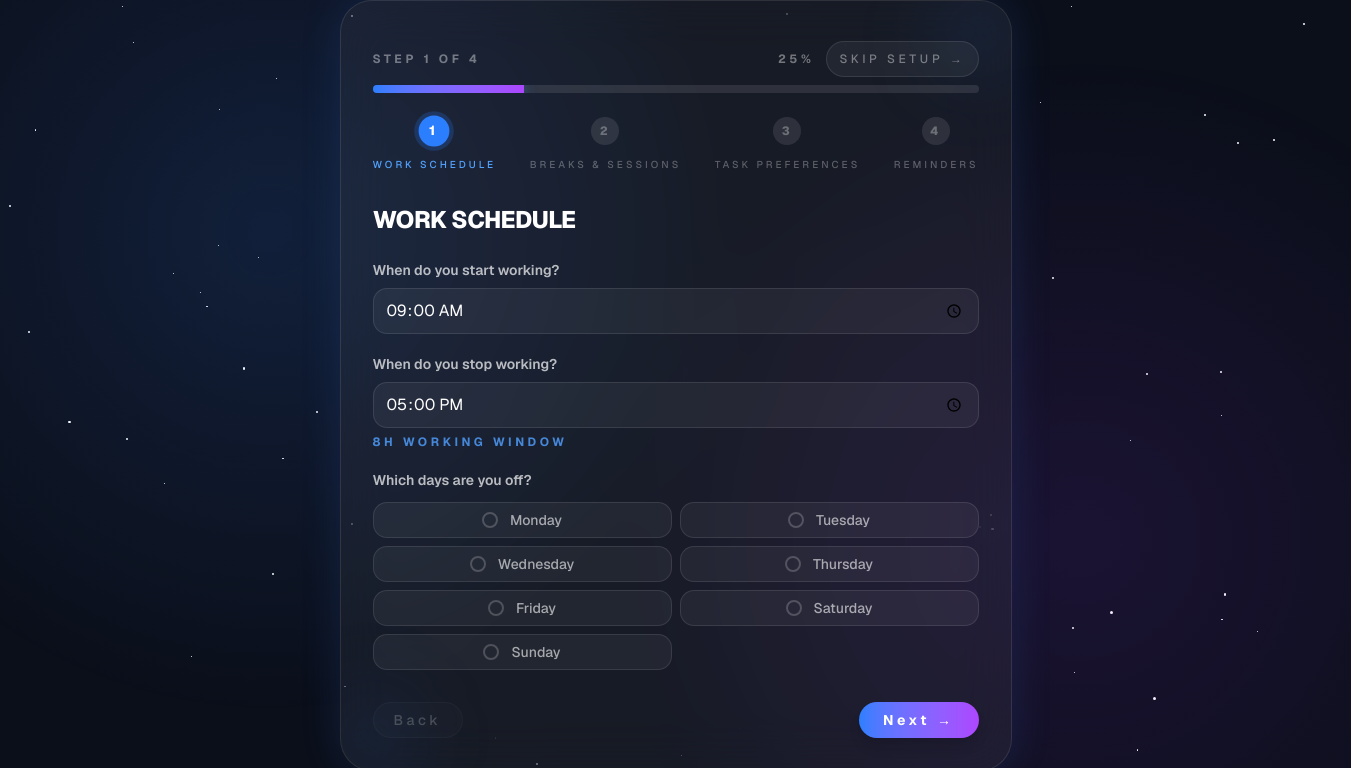
Test case: Quiz Page › updates Step 1 inputs: start/end time and days off checkboxes
The width and height of the screenshot is (1366, 768).
Replace the text in the time field below "When do you start working?" with "10:00" at (676, 311), box x1=372 y1=288 x2=978 y2=334
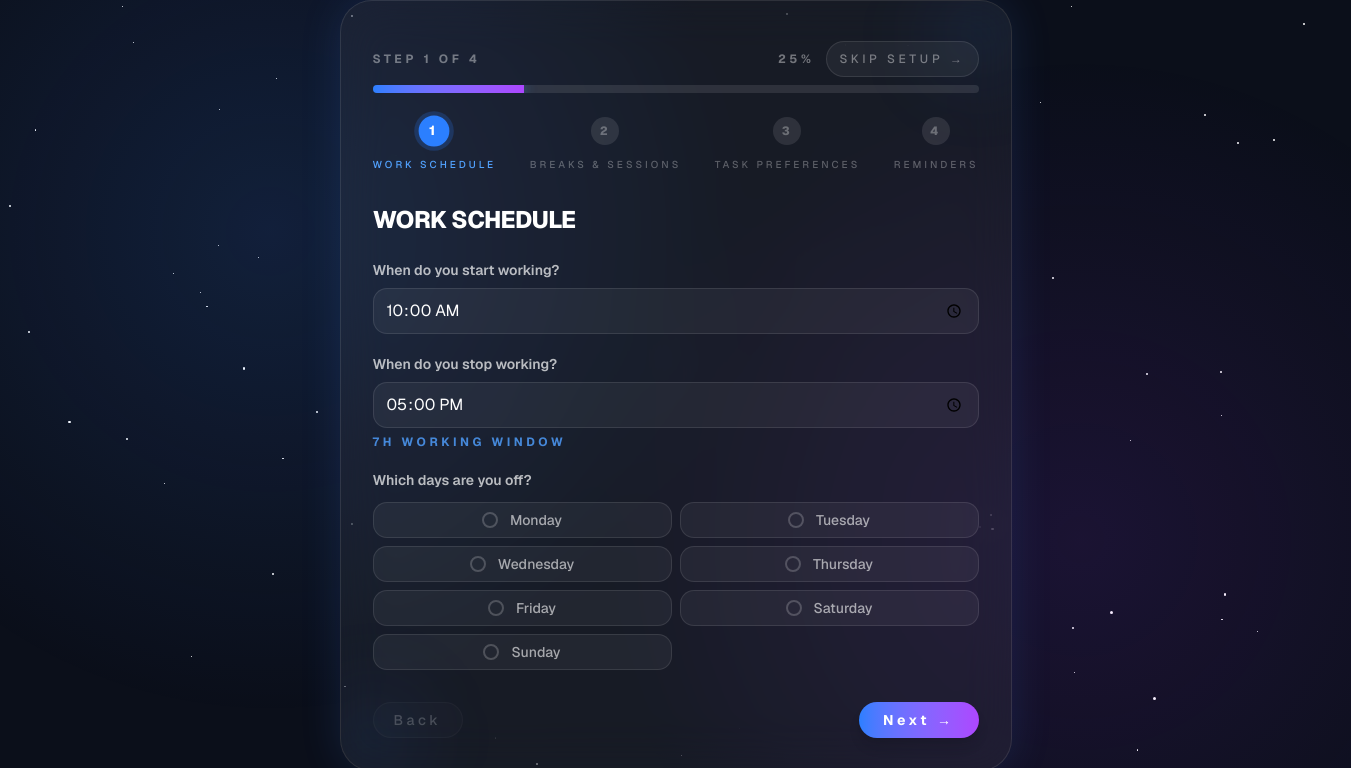
Click the button "Monday".
click(522, 520)  # box x1=372 y1=502 x2=672 y2=538
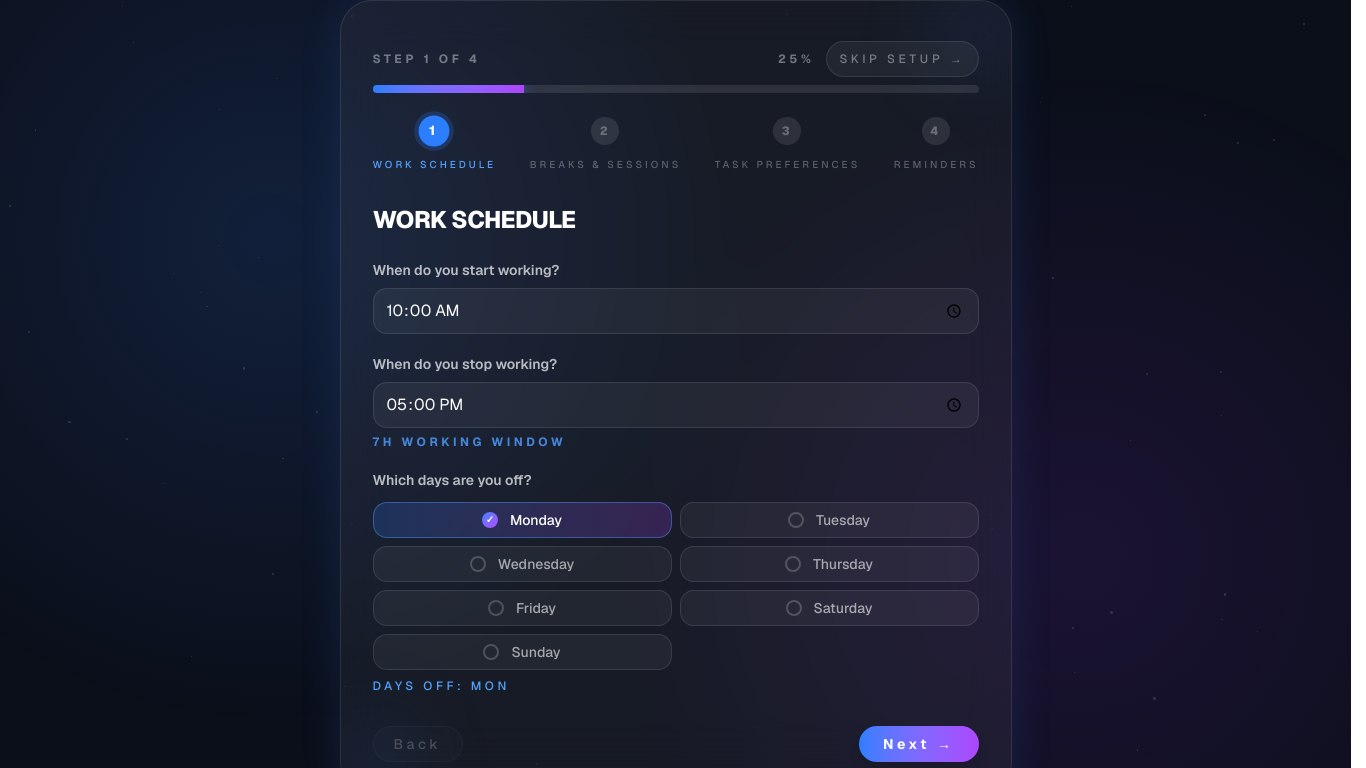
Check: the text "Days off: Mon" is shown, box x1=372 y1=678 x2=510 y2=694
